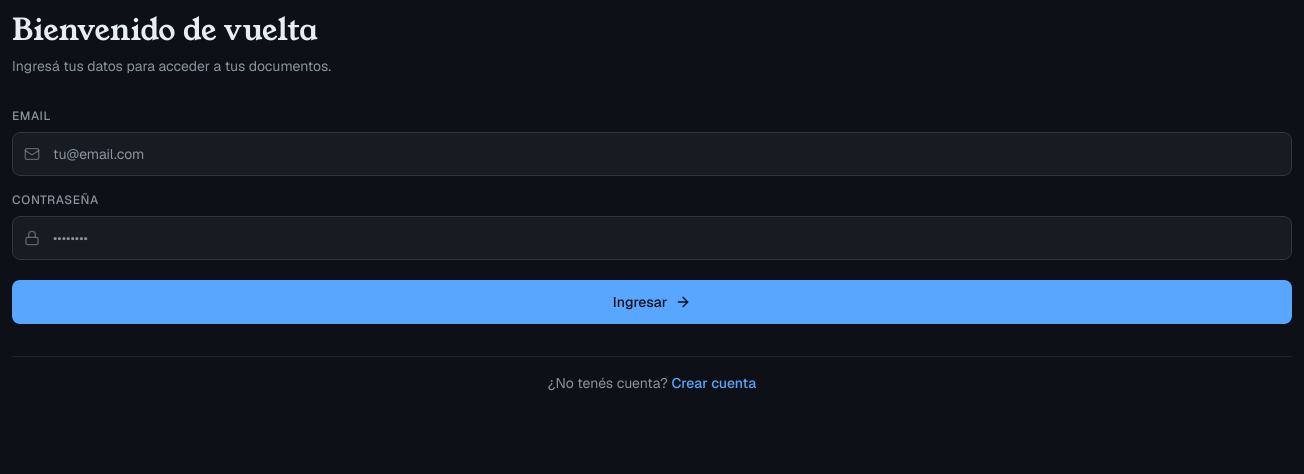
LoginPage › muestra error si el login falla
In the field labelled "Email": (652,154) [12,132,1292,176], type "test@test.com"
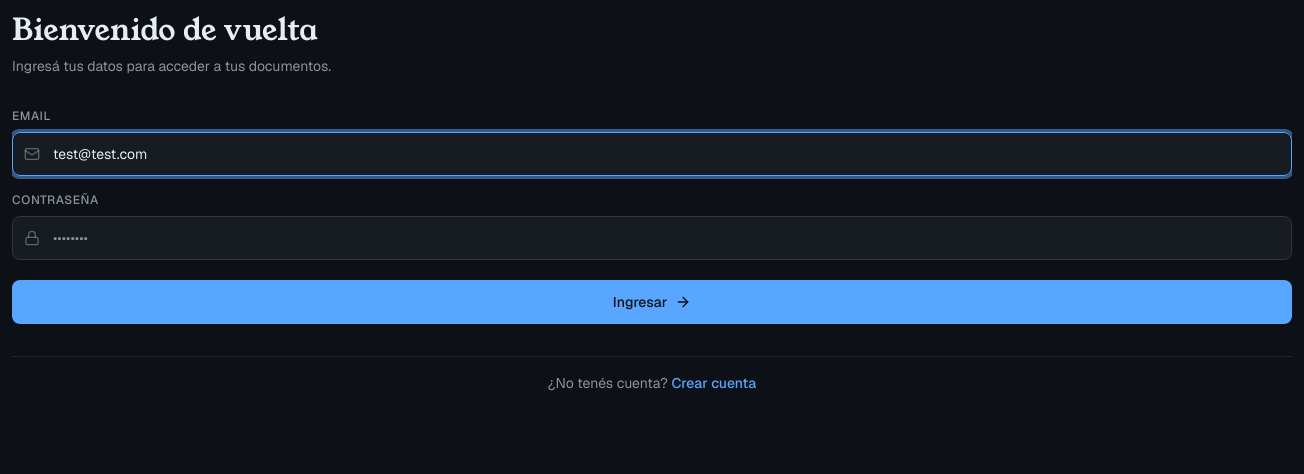
In the password field labelled "Contraseña": (652,238) [12,216,1292,260], type "wrong"
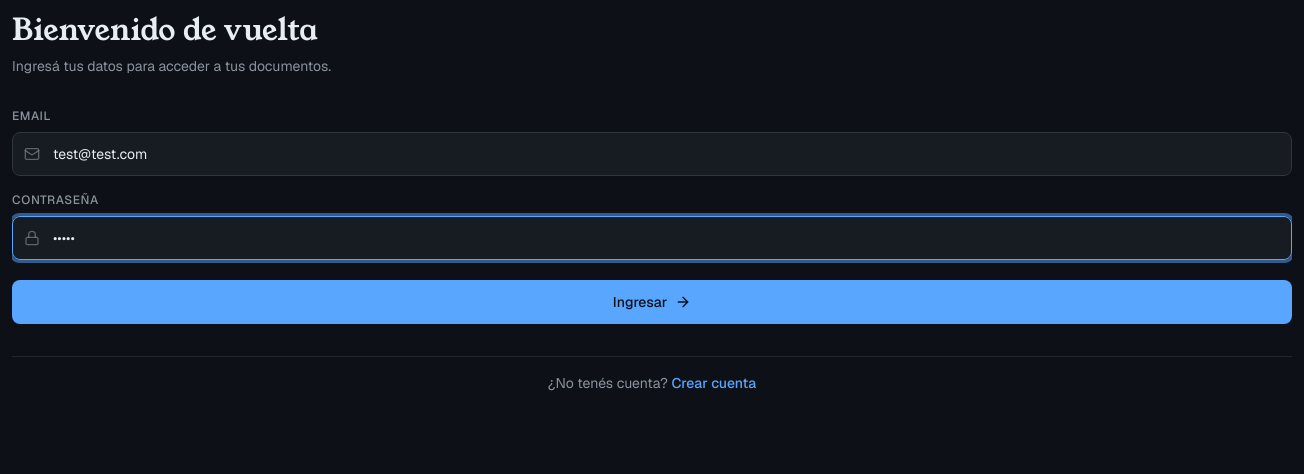
Click the button "Ingresar": (652,302) [12,280,1292,324]
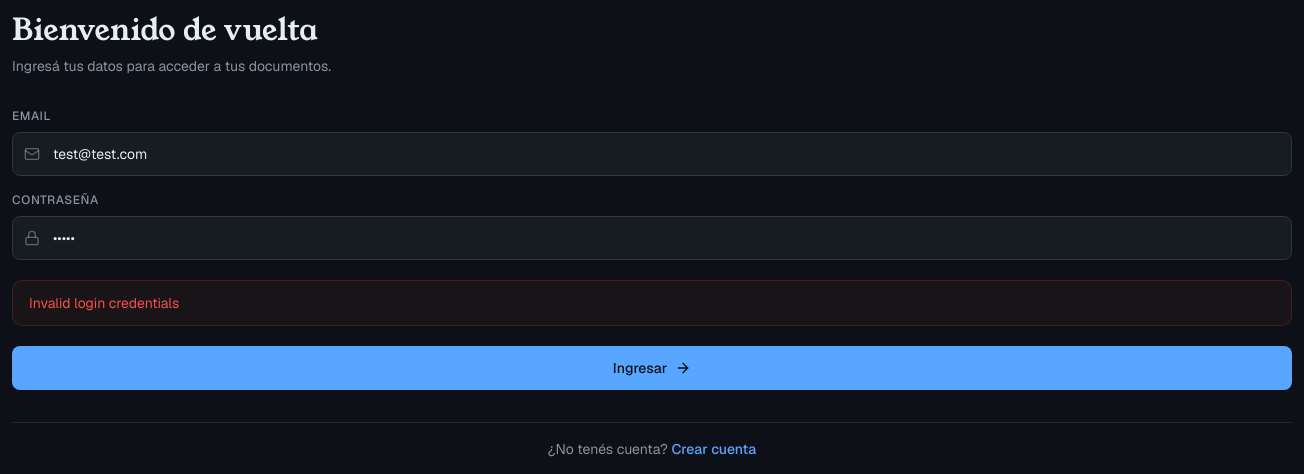
Expected: the text "Invalid login credentials" is shown, [29,294,179,312]
